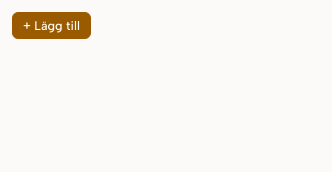
Test case: StatusButton — the write waits for auth AND the watchlist snapshot (BIN-596) › the explanation survives a menu that was already open when the listener died
The width and height of the screenshot is (332, 172).
Later steps or results of the test are not shown.
Click the button "+ Lägg till" at (51, 26), box [12, 12, 91, 39]
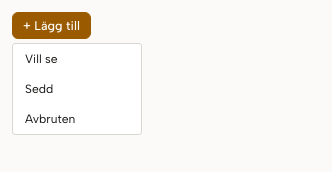
Expected: the button "Vill se" is shown, [13, 44, 141, 74]
